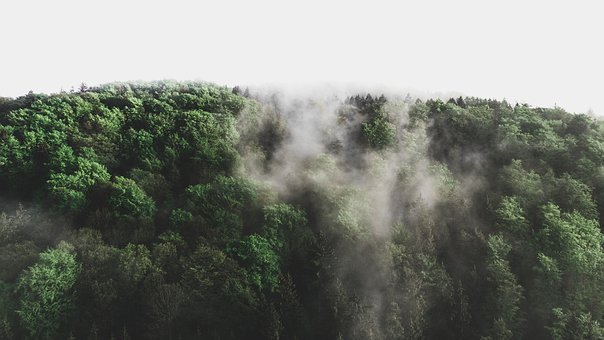mountain: (16, 83, 604, 338)
sky: (1, 2, 604, 112)
